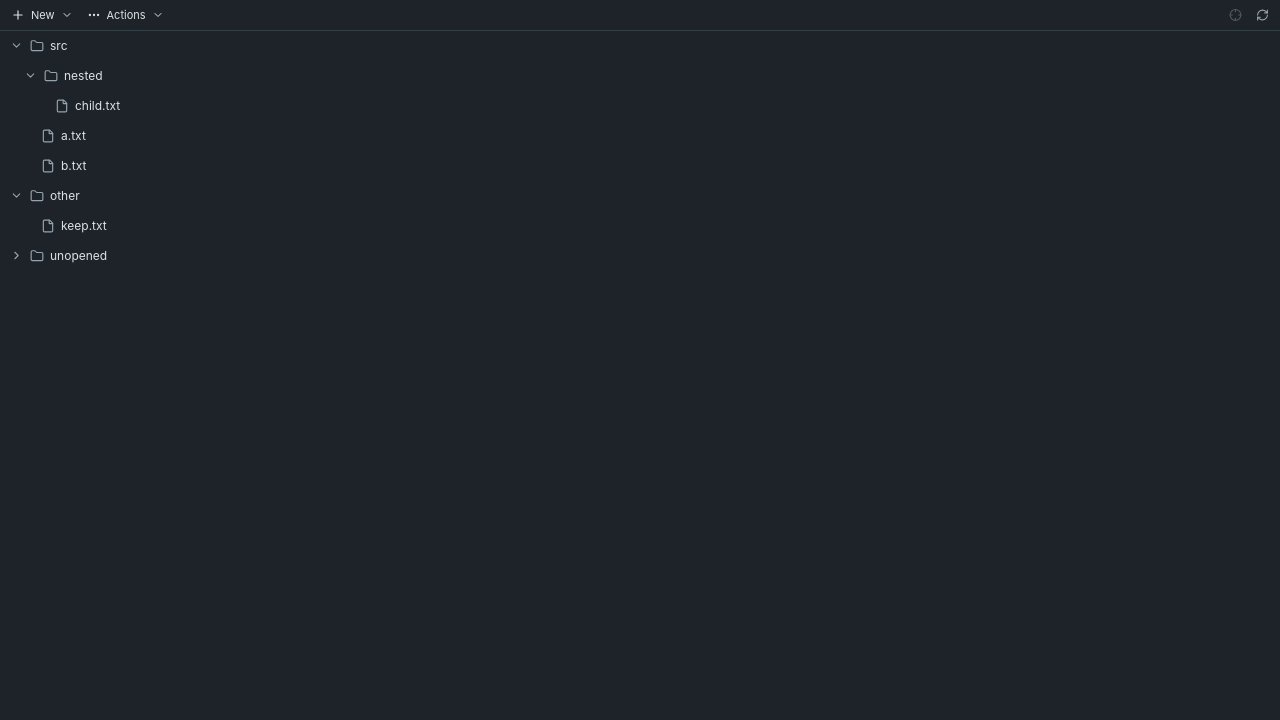
Scenario: keeps a cached collapsed folder collapsed, with working descendants when reopened
This screenshot has width=1280, height=720.
Expected: the text "keep.txt" is shown, [61,218,107,233]
Click the button named "Collapse nested": [30, 76] box [22,66,38,86]
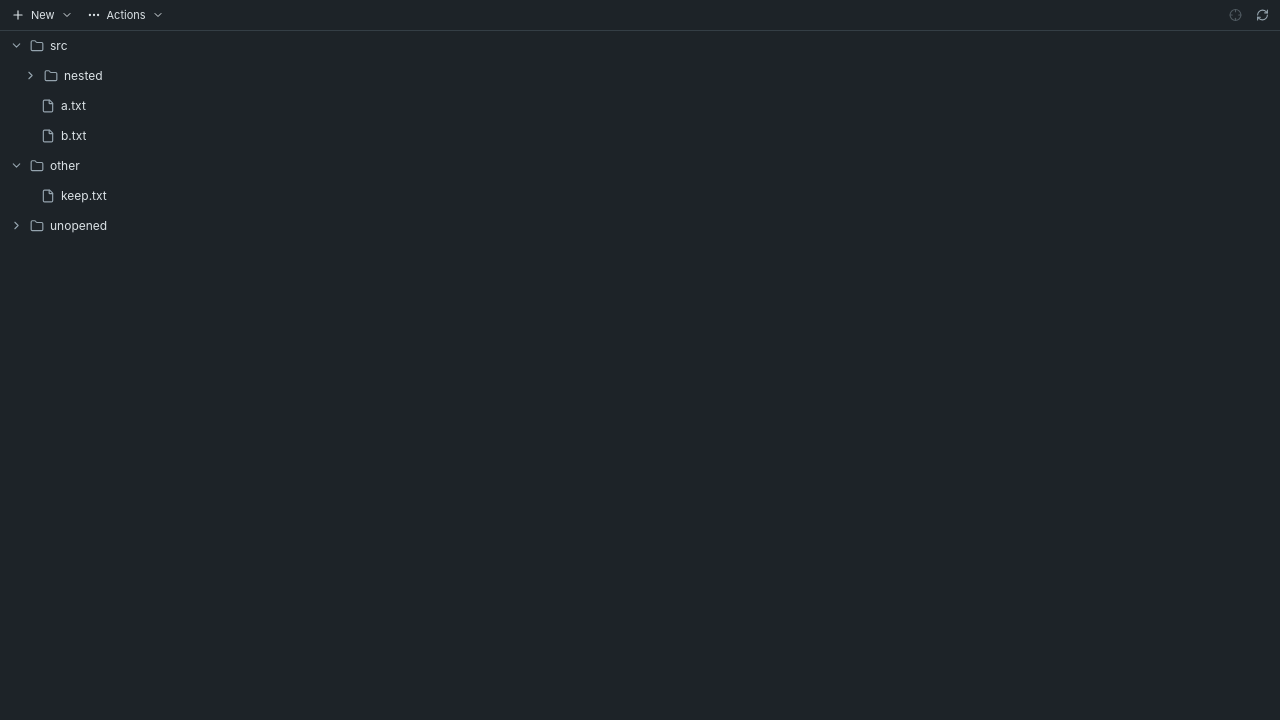
Now the text "child.txt" is gone
Click the text "src": [59, 46] box [50,38,68,53]
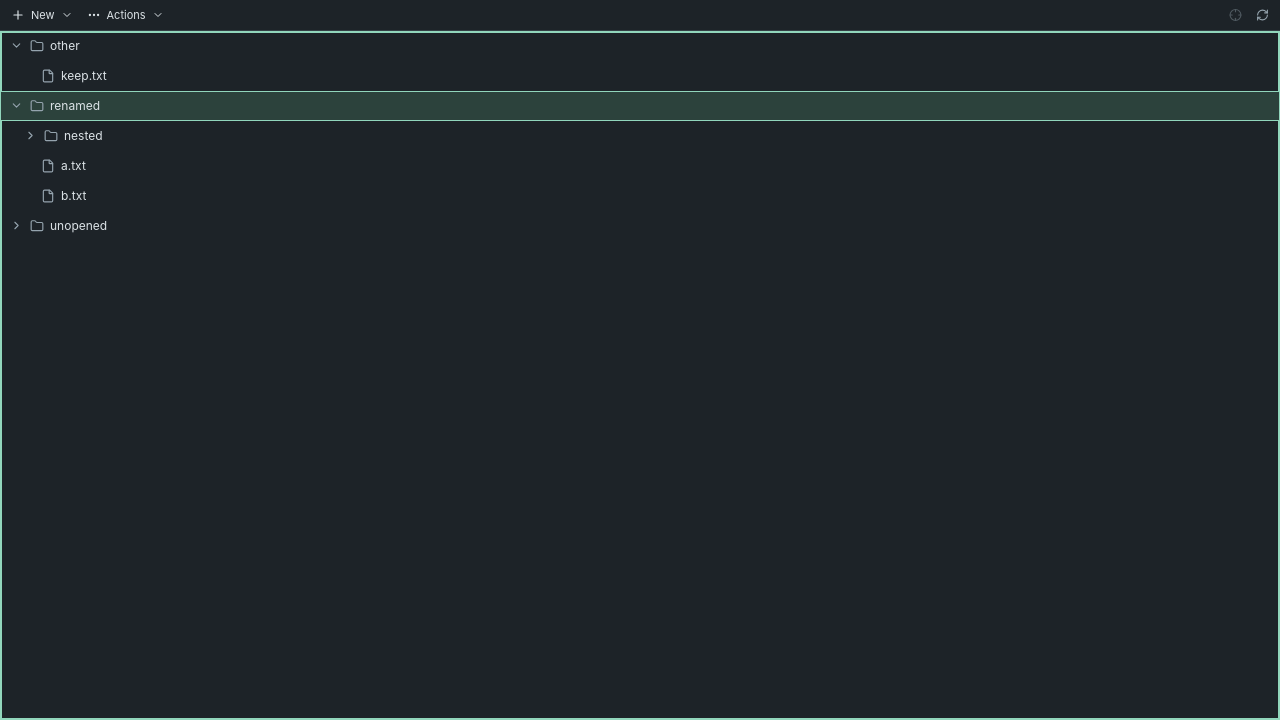
Expected: the text "child.txt" is not shown
Click the button named "Expand nested": [30, 136] box [22,126,38,146]
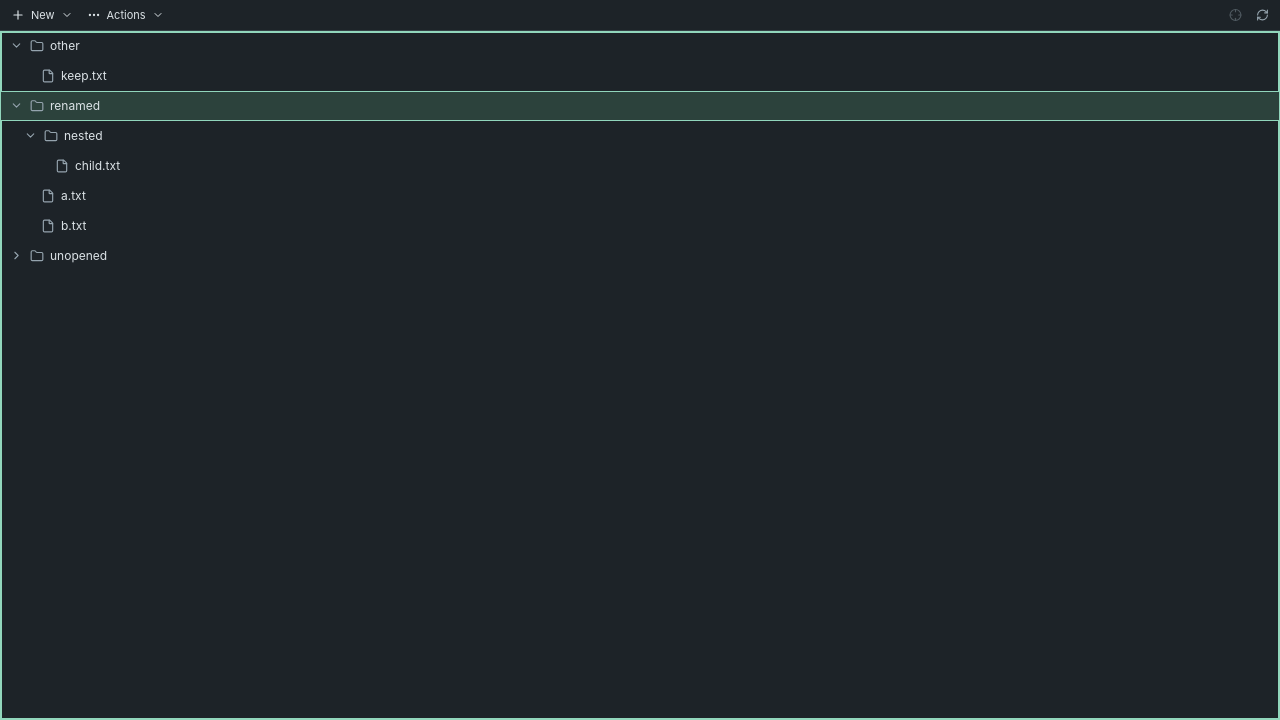
Now the text "child.txt" is shown, box [75,158,120,173]
